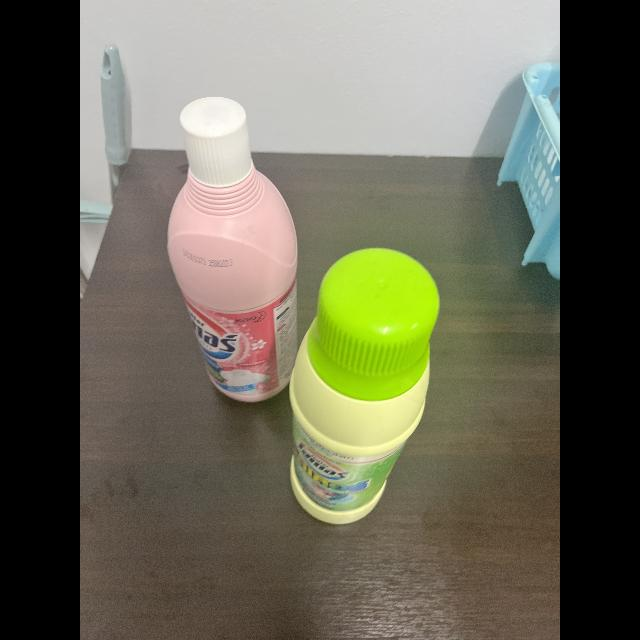chemical_plastic_bottle: (278, 244, 444, 524), (161, 89, 303, 409)
